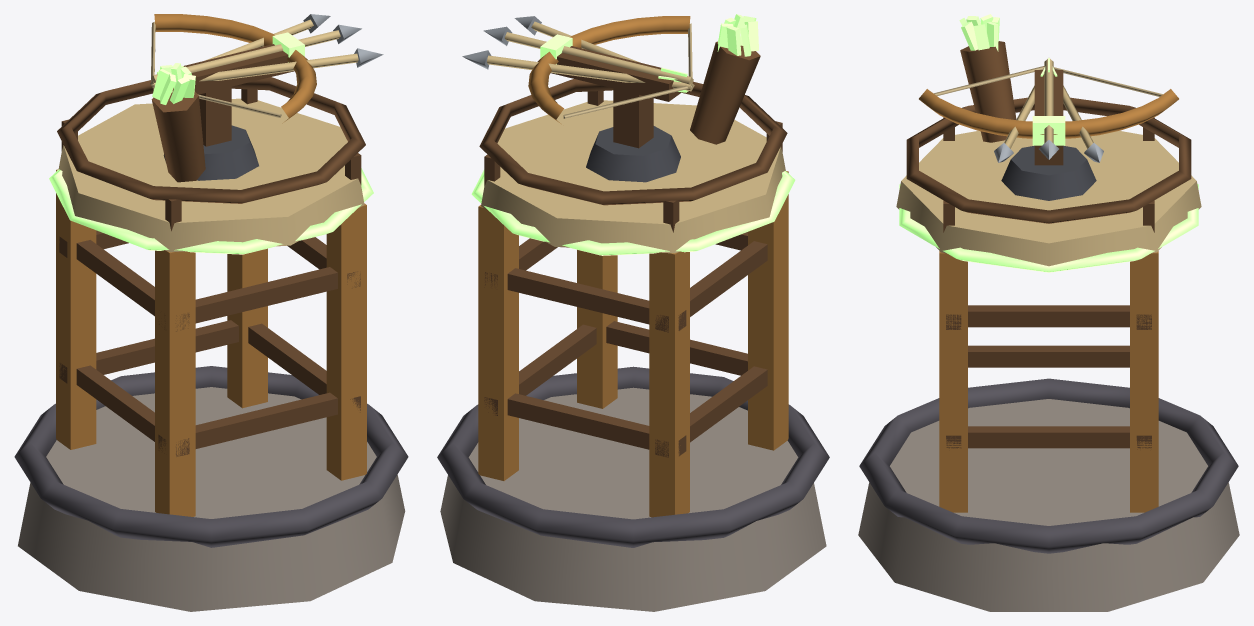
File: tower_archer_volley.glb
3 views of the same model, side by side, from view 1: azimuth 30°, elevation 25°; view 2: azimuth 150°, elevation 25°; view 3: azimuth 270°, elevation 25° (orthographic). The views are drawn at different scales.
Visible parts, largest first — view 1: base, deck, base_rim, post_wn, post_en, post_ws, rail, post_es, beam_x_0_n, deck_band, beam_x_1_n, quiver (+12 smaller); view 2: base, deck, base_rim, post_ws, post_es, post_wn, rail, post_en, quiver, swivel, beam_x_1_s, beam_x_0_s (+13 smaller); view 3: base, deck, base_rim, post_es, post_en, rail, bow, beam_z_0_e, beam_z_0_w, beam_z_1_e, swivel, deck_band (+4 smaller).
Part boxes in pixels (bbox=[...]): base: bbox=[18, 387, 405, 611]; deck: bbox=[58, 98, 364, 252]; base_rim: bbox=[14, 366, 408, 547]; post_wn: bbox=[155, 250, 195, 516]; post_en: bbox=[326, 203, 366, 480]; post_ws: bbox=[56, 169, 96, 449]; rail: bbox=[57, 77, 365, 203]; post_es: bbox=[227, 248, 267, 408]; beam_x_0_n: bbox=[158, 392, 337, 453]; deck_band: bbox=[49, 168, 373, 254]; beam_x_1_n: bbox=[159, 267, 337, 329]; quiver: bbox=[151, 88, 205, 182]; base: bbox=[440, 387, 826, 611]; deck: bbox=[481, 100, 785, 253]; base_rim: bbox=[437, 366, 829, 547]; post_ws: bbox=[649, 251, 689, 517]; post_es: bbox=[478, 205, 518, 480]; post_wn: bbox=[748, 171, 788, 450]; rail: bbox=[479, 79, 787, 205]; post_en: bbox=[577, 250, 617, 408]; quiver: bbox=[690, 41, 760, 144]; swivel: bbox=[586, 126, 680, 182]; beam_x_1_s: bbox=[507, 268, 686, 330]; beam_x_0_s: bbox=[507, 393, 686, 456]; base: bbox=[858, 399, 1239, 611]; deck: bbox=[896, 131, 1201, 266]; base_rim: bbox=[859, 378, 1238, 553]; post_es: bbox=[1130, 251, 1158, 512]; post_en: bbox=[939, 251, 967, 512]; rail: bbox=[906, 97, 1191, 223]; bow: bbox=[919, 89, 1178, 138]; beam_z_0_e: bbox=[968, 426, 1129, 448]; beam_z_0_w: bbox=[968, 345, 1129, 367]; beam_z_1_e: bbox=[968, 305, 1129, 327]; swivel: bbox=[1001, 145, 1096, 200]; deck_band: bbox=[899, 184, 1198, 272].
Size of the model in its own units: 0.398 by 0.5582 by 0.4.
